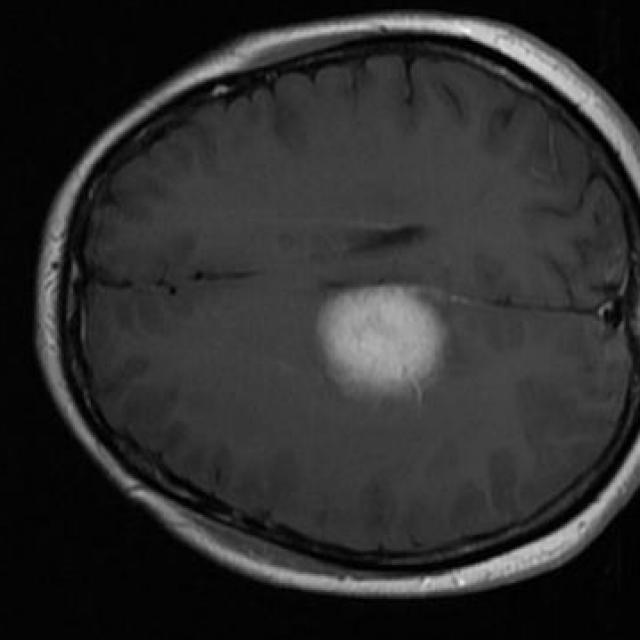meningioma: (319, 287, 449, 396)
